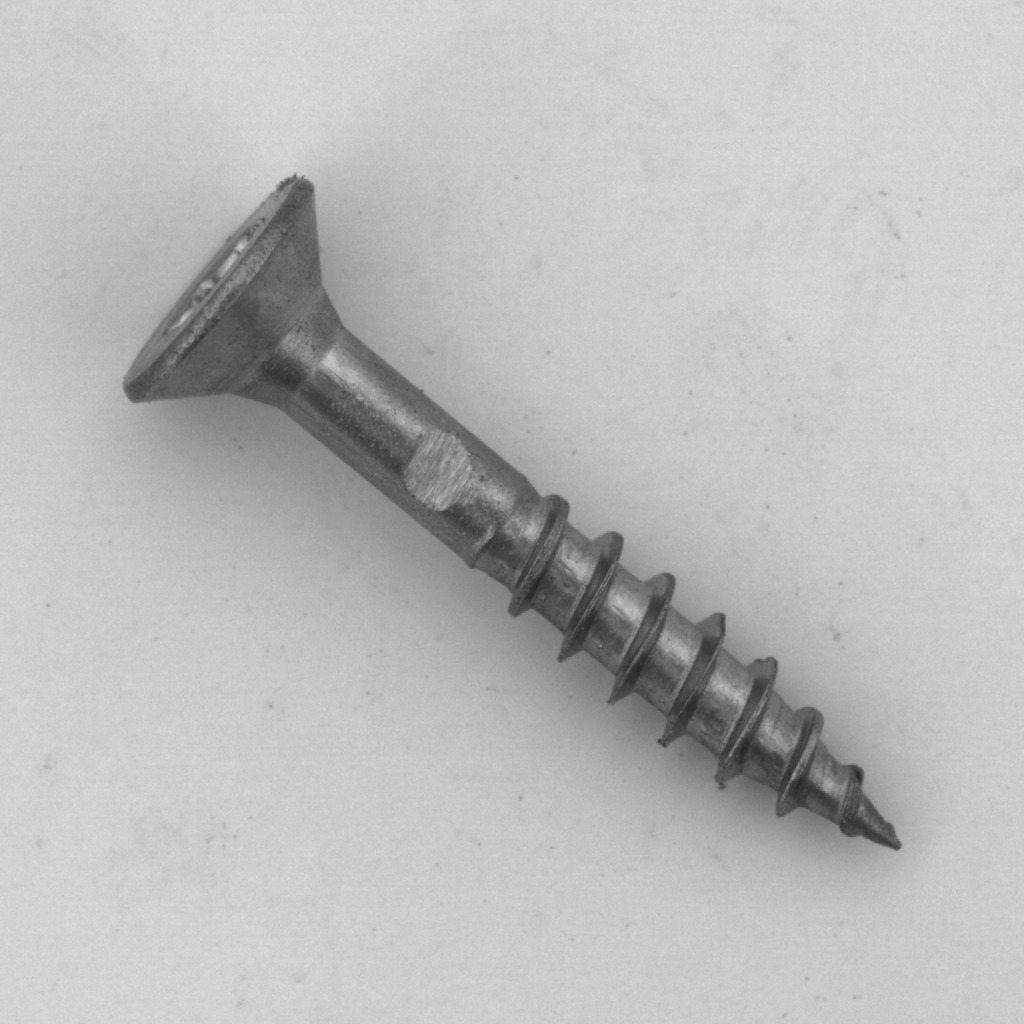scratch_neck: (351, 369, 532, 569)
